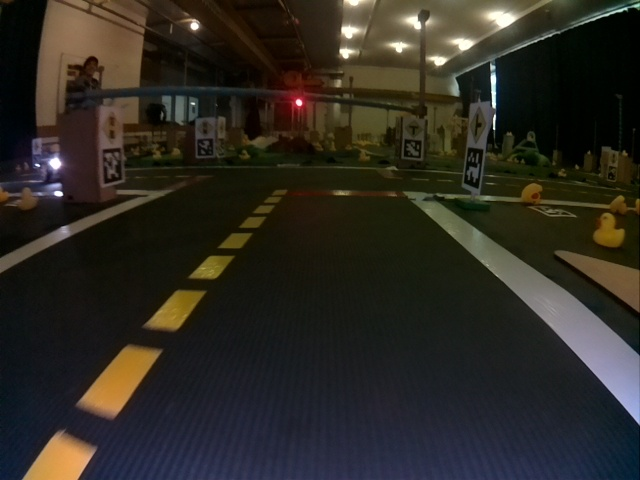Duckie: (594, 214, 624, 247), (522, 183, 542, 205), (18, 187, 37, 210), (610, 195, 628, 214)
Intersection sign: (469, 105, 486, 144), (404, 119, 424, 138)
QR code: (464, 147, 484, 192), (102, 148, 124, 184), (537, 206, 573, 218), (403, 139, 422, 159), (196, 138, 214, 157)
Signal sign: (100, 109, 122, 144), (196, 119, 214, 137)
Traffic light: (294, 95, 304, 107)
